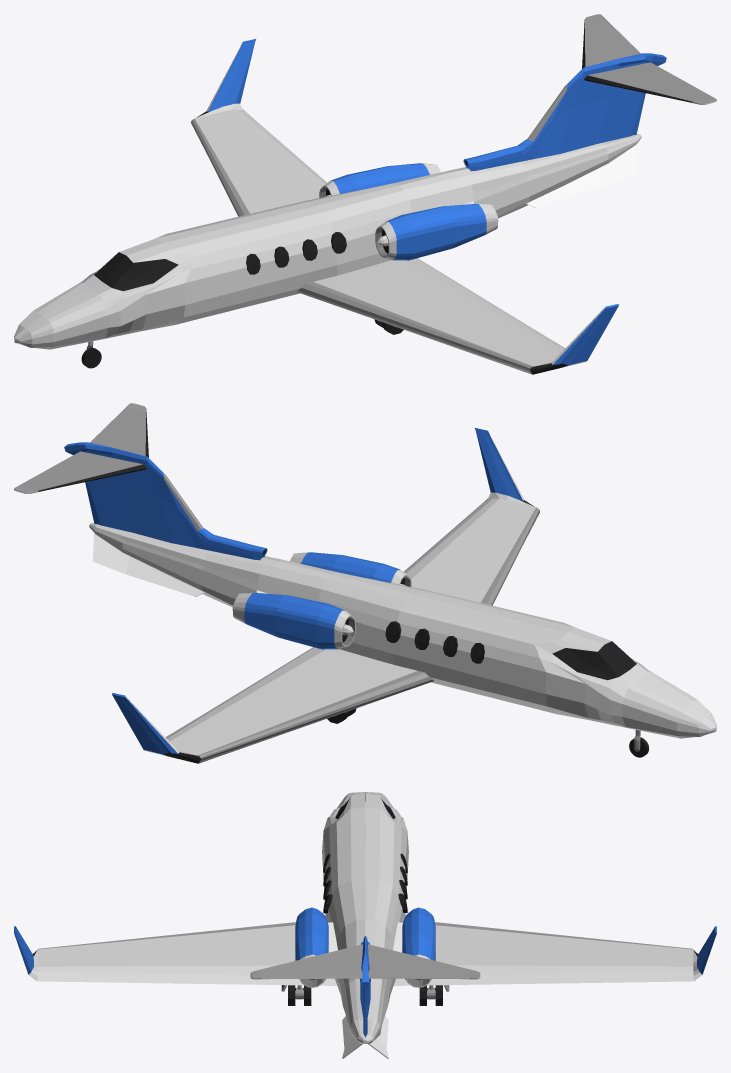
Rendered from jet.glb.
The picture shows the model from 3 angles, top to bottom: view 1: azimuth 30°, elevation 25°; view 2: azimuth 150°, elevation 25°; view 3: azimuth 270°, elevation 25°; orthographic projection. The views are drawn at different scales.
Visible parts, largest first — view 1: Object_4, Object_39, Object_35, Object_23, Object_30, Object_42, Object_40, Object_33, Object_5, Object_24; view 2: Object_4, Object_39, Object_35, Object_23, Object_30, Object_42, Object_40, Object_33, Object_5, Object_24; view 3: Object_39, Object_4, Object_30, Object_23, Object_42, Object_40, Object_33, Object_35, Object_44, Object_28.
Boxes of the visible parts, bbox=[...] form: Object_4: bbox=[14, 134, 641, 349]; Object_39: bbox=[195, 42, 605, 366]; Object_35: bbox=[463, 53, 666, 171]; Object_23: bbox=[331, 163, 486, 260]; Object_30: bbox=[584, 14, 716, 104]; Object_42: bbox=[191, 118, 532, 374]; Object_40: bbox=[208, 39, 618, 365]; Object_33: bbox=[526, 144, 638, 207]; Object_5: bbox=[94, 252, 178, 291]; Object_24: bbox=[319, 163, 498, 259]; Object_4: bbox=[89, 523, 716, 738]; Object_39: bbox=[125, 431, 535, 755]; Object_35: bbox=[64, 442, 267, 560]; Object_23: bbox=[244, 552, 399, 649]; Object_30: bbox=[14, 403, 146, 493]; Object_42: bbox=[198, 507, 539, 763]; Object_40: bbox=[112, 428, 522, 754]; Object_33: bbox=[92, 533, 204, 596]; Object_5: bbox=[552, 641, 636, 680]; Object_24: bbox=[232, 552, 411, 648]; Object_39: bbox=[29, 925, 701, 985]; Object_4: bbox=[322, 792, 408, 1043]; Object_30: bbox=[250, 944, 480, 979]; Object_23: bbox=[295, 907, 435, 960]; Object_42: bbox=[38, 922, 692, 949]; Object_40: bbox=[14, 926, 716, 974]; Object_33: bbox=[342, 1016, 388, 1058]; Object_35: bbox=[360, 936, 370, 1037]; Object_44: bbox=[288, 985, 442, 1005]; Object_28: bbox=[328, 922, 402, 952].
Size of the model in its own units: 42.08 by 11.26 by 40.76.
